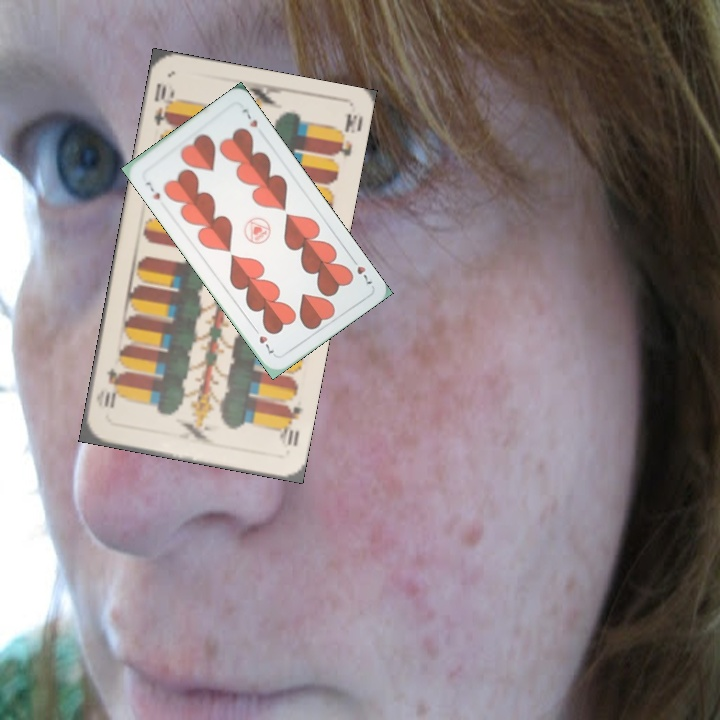E10: (275, 401, 304, 451), (150, 79, 178, 128)
H7: (347, 253, 375, 289), (142, 178, 163, 202)
